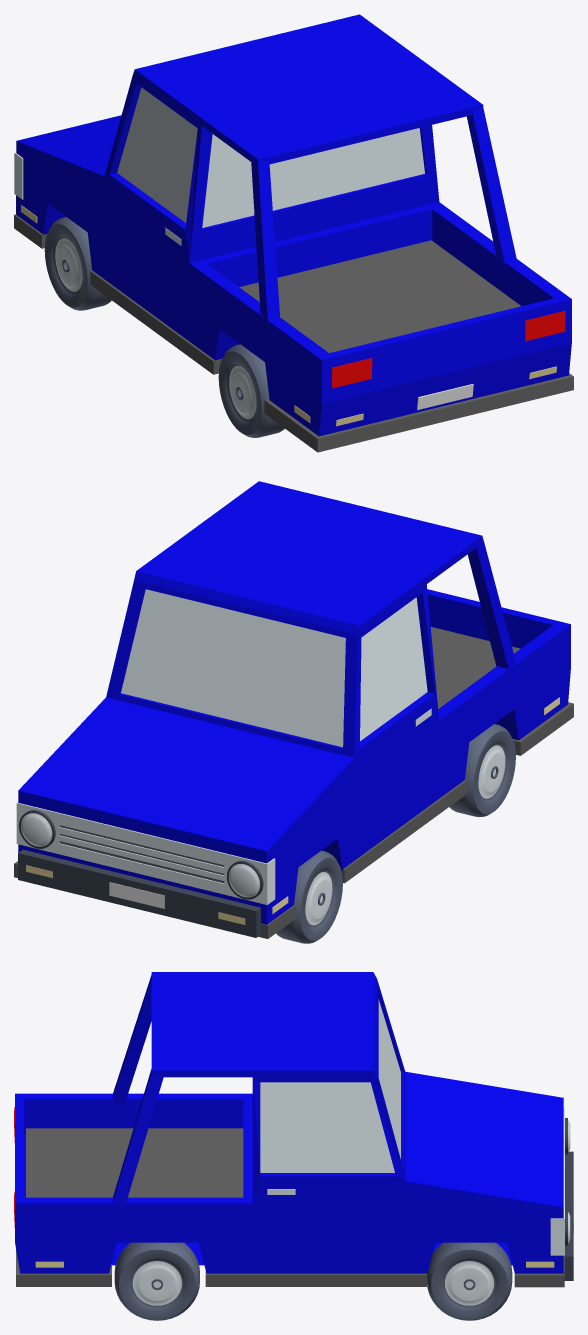
Rendered from Car.fbx.
The picture shows the model from 3 angles, top to bottom: view 1: azimuth 30°, elevation 25°; view 2: azimuth 150°, elevation 25°; view 3: azimuth 270°, elevation 25°; orthographic projection. The views are drawn at different scales.
Visible parts, largest first — view 1: Car; view 2: Car; view 3: Car.
Part boxes in pixels (x1,y1,x2,y2): Car: [14, 14, 573, 452]; Car: [14, 481, 573, 943]; Car: [14, 972, 573, 1320].
Bounding box in the file's own units: 70.99 × 72.32 × 149.
